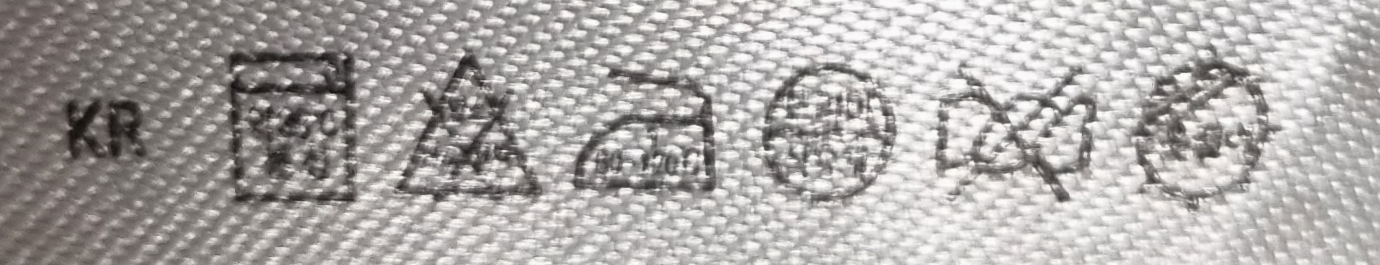KR_dry_clean_petroleum: (739, 47, 907, 212)
KR_hang_dry_in_shade: (1123, 42, 1291, 213)
KR_iron_low_temp: (572, 51, 736, 207)
KR_no_wring: (920, 47, 1101, 214)
